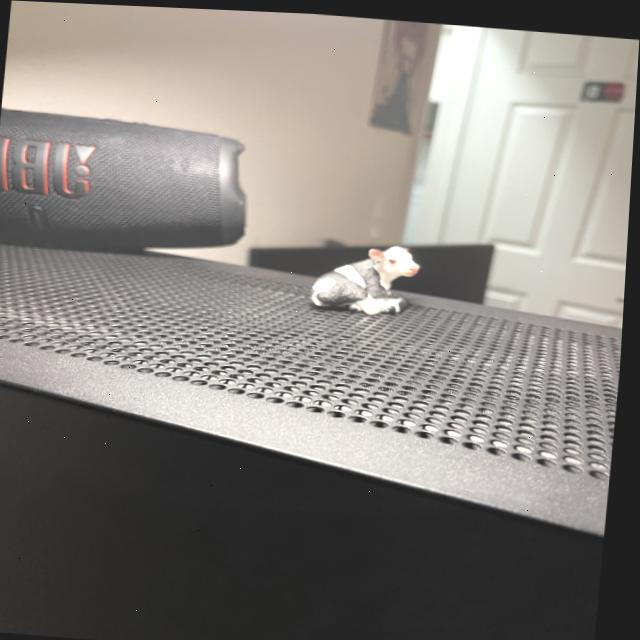cow: (310, 240, 426, 317)
